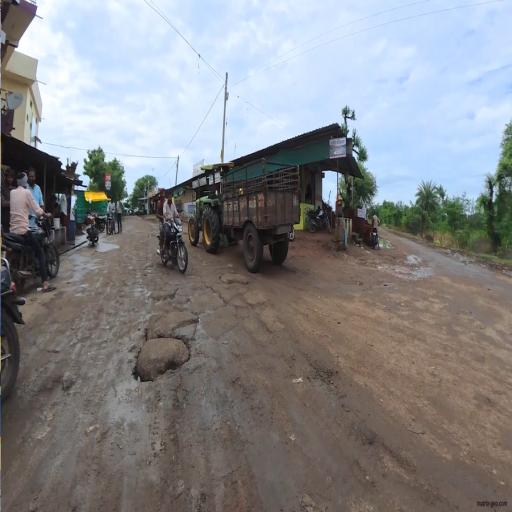longitudinal_crack: (116, 233, 285, 436)
